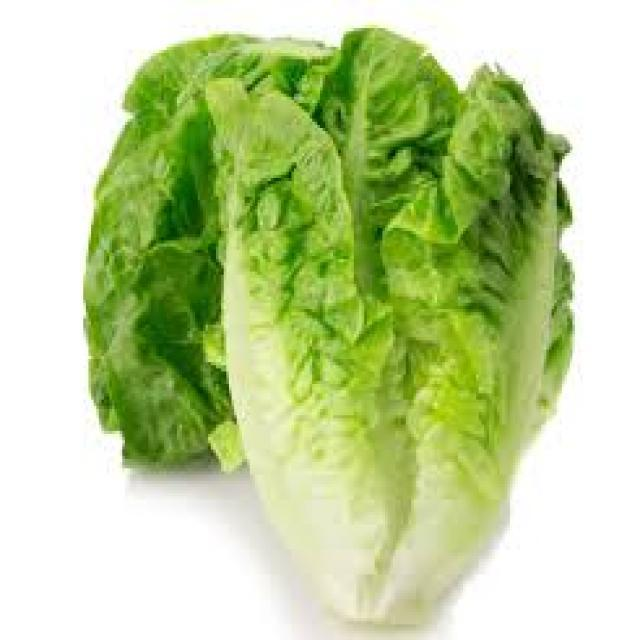Lettuce: (228, 25, 562, 640)
